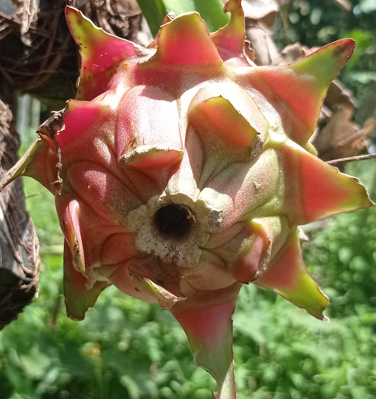Matang: (39, 20, 376, 316)
